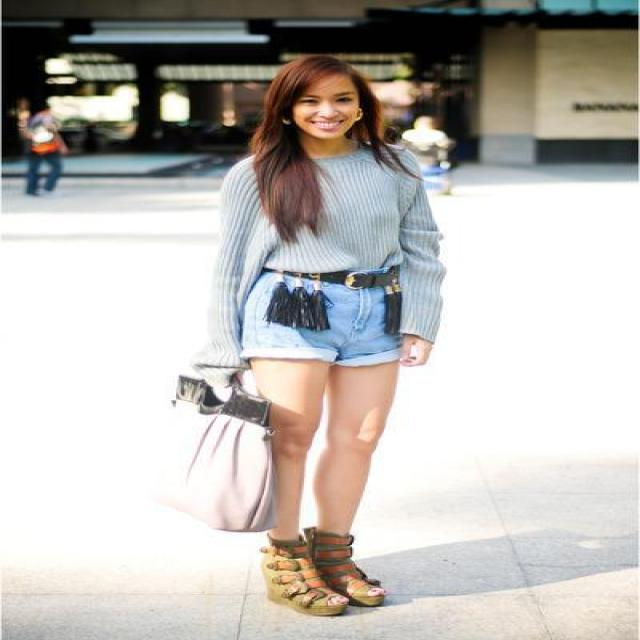bag: (150, 371, 293, 530)
jacket: (190, 146, 445, 365)
shoe: (264, 527, 387, 615)
shorts: (237, 271, 424, 363)
